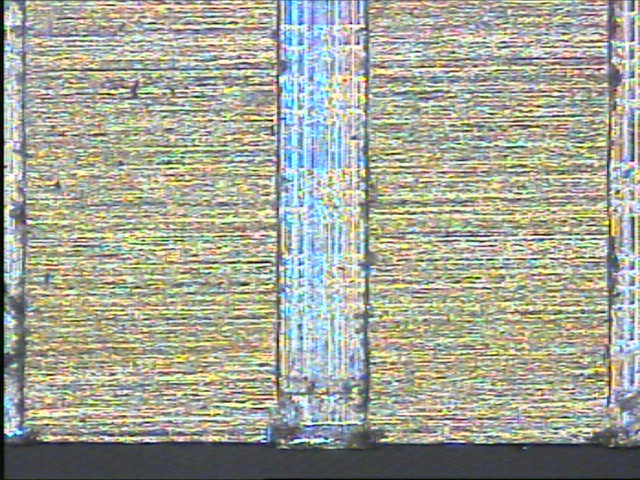line: (271, 1, 373, 448)
